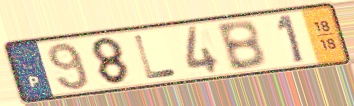1: (273, 12, 307, 65)
4: (184, 24, 222, 76)
8: (90, 35, 132, 87)
9: (45, 41, 92, 92)
B: (214, 18, 269, 73)
L: (131, 33, 179, 81)
